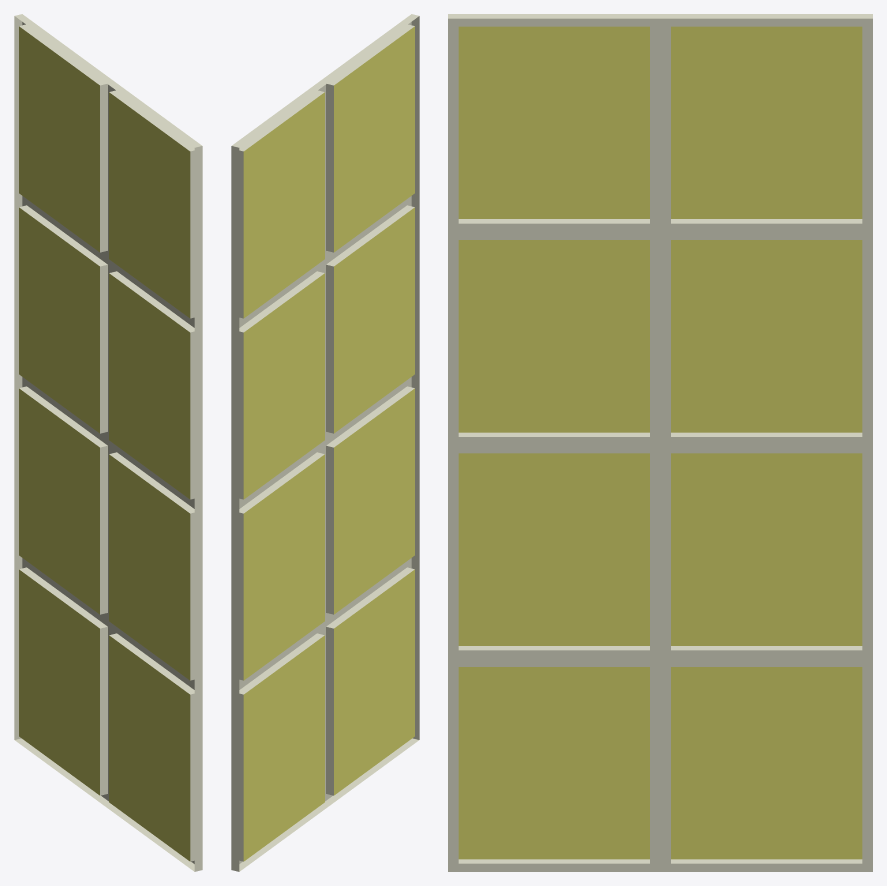
Rendered from SM_HOTEL_Window_large.fbx.
3 renders of one model, left to right at view 1: azimuth 30°, elevation 25°; view 2: azimuth 150°, elevation 25°; view 3: azimuth 270°, elevation 25°, orthographic. The views are drawn at different scales.
Parts seen in each view (by area): view 1: SM_HOTEL_Window_large; view 2: SM_HOTEL_Window_large; view 3: SM_HOTEL_Window_large.
Boxes of the visible parts, x1,y1,x2,y2 form: SM_HOTEL_Window_large: (14,14,202,871); SM_HOTEL_Window_large: (231,14,419,871); SM_HOTEL_Window_large: (448,14,872,871).
Bounding box in the file's own units: 8.25 × 727 × 328.
